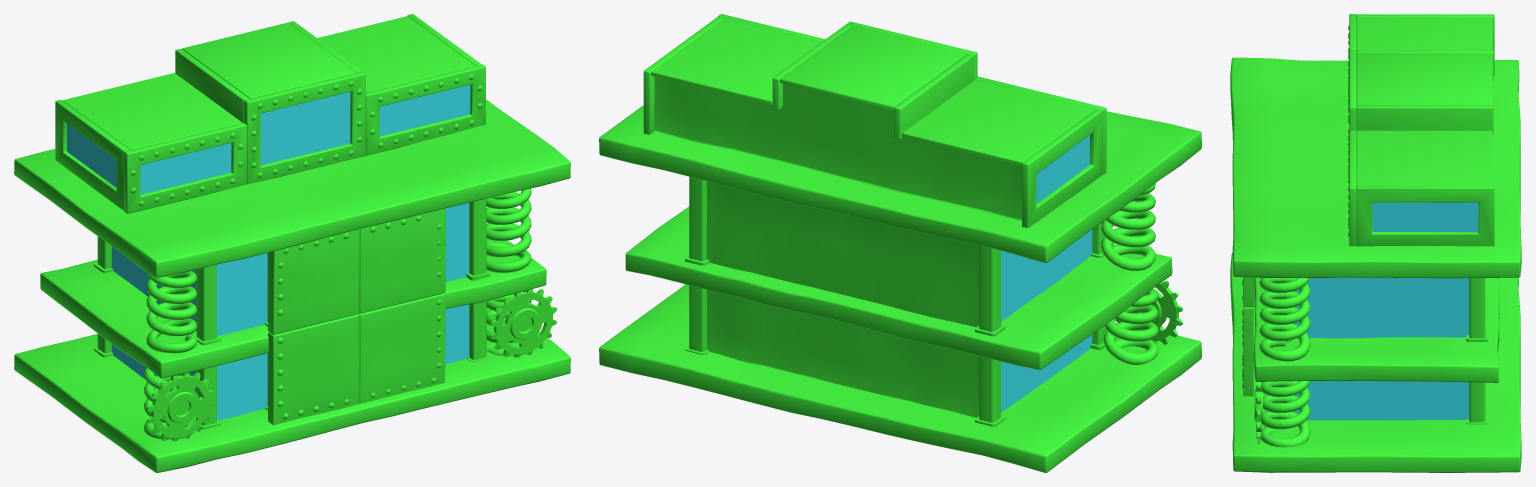
Rendered from Pedestal.fbx.
3 renders of one model, left to right at view 1: azimuth 30°, elevation 25°; view 2: azimuth 150°, elevation 25°; view 3: azimuth 270°, elevation 25°, orthographic. The views are drawn at different scales.
Parts seen in each view (by area): view 1: Box016, Object011; view 2: Box016, Object011; view 3: Box016, Object011.
Part boxes in pixels (bbox=[...]): Box016: bbox=[14, 14, 570, 472]; Object011: bbox=[67, 84, 470, 420]; Box016: bbox=[599, 14, 1201, 472]; Object011: bbox=[1001, 135, 1092, 412]; Box016: bbox=[1230, 14, 1521, 472]; Object011: bbox=[1293, 202, 1478, 420].
Size of the model in its own units: 90.11 by 54.55 by 62.42.
